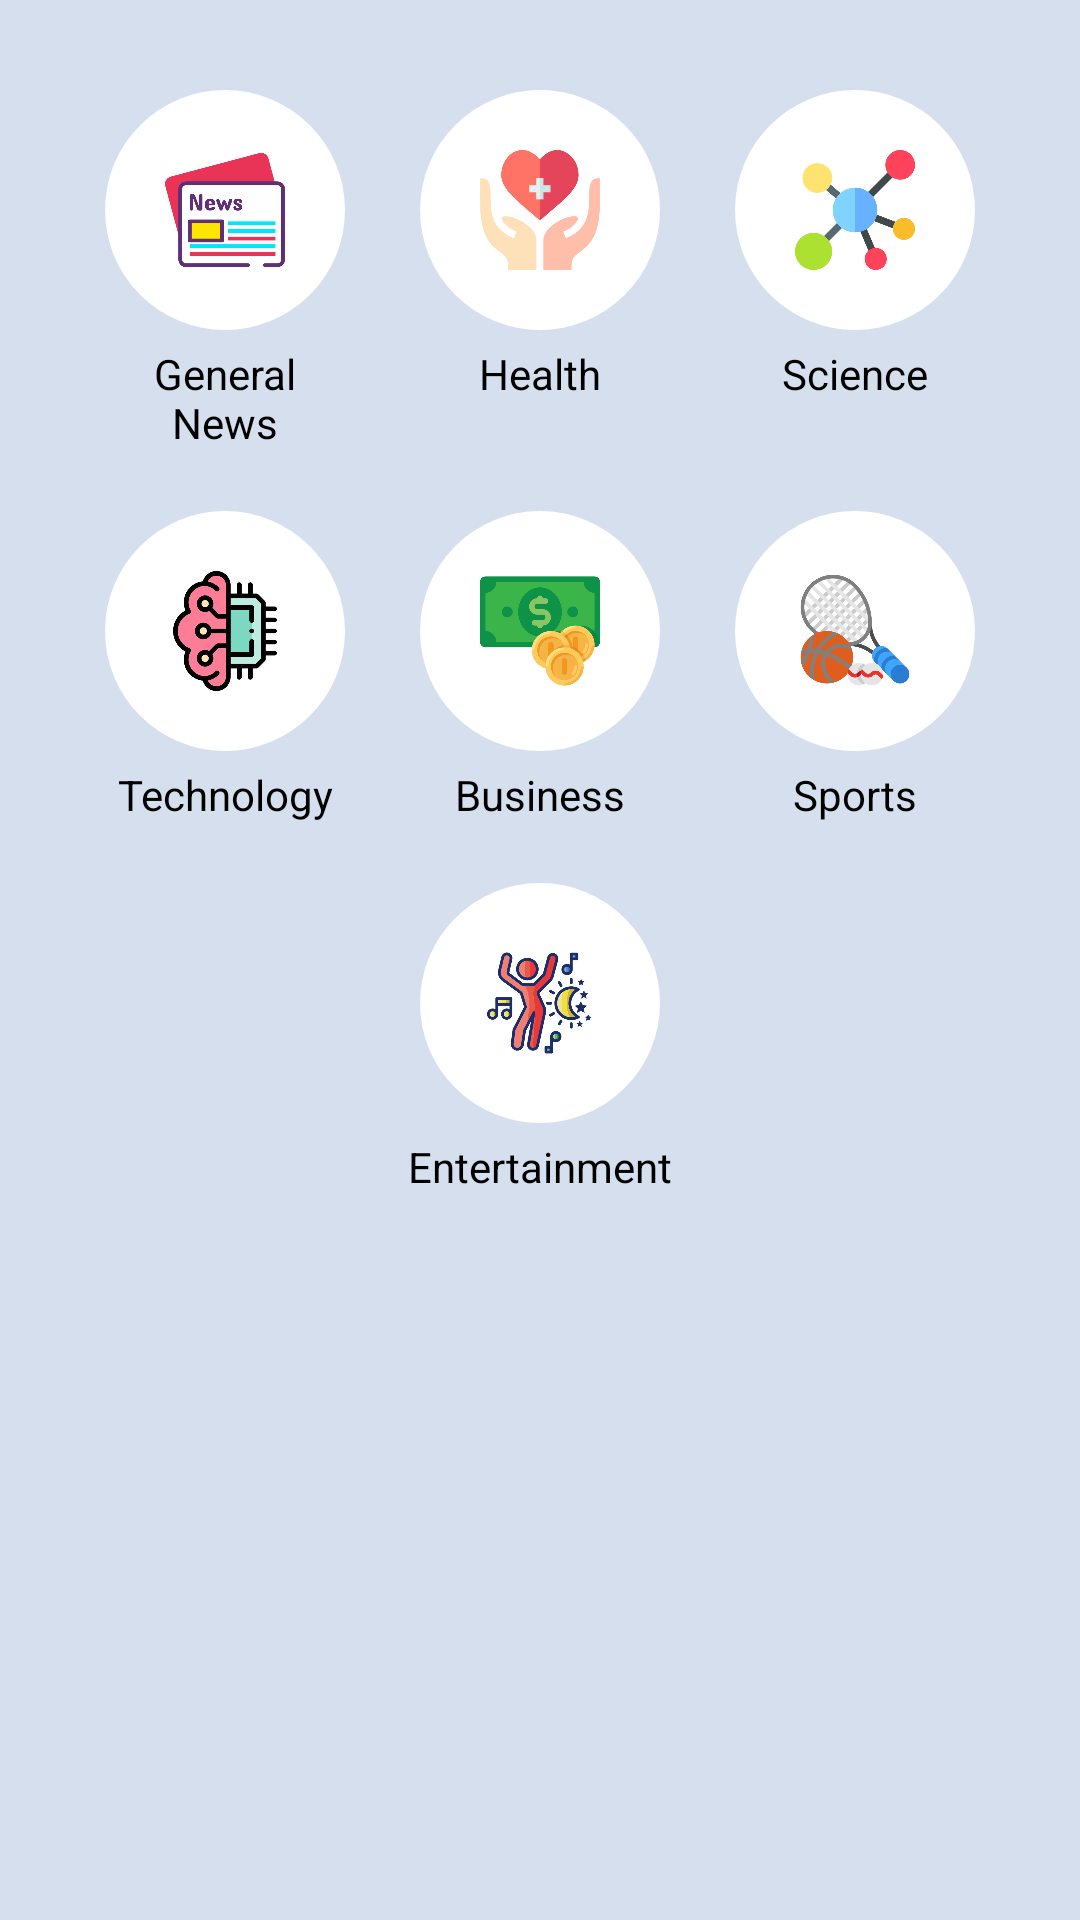

Locate icon controls on the screen. Image size 1080px x 1920px, boxes as (x1=x1, y1=y1, x2=x2, y2=y2).
brain: (x1=105, y1=511, x2=345, y2=751)
dance: (x1=420, y1=883, x2=660, y2=1123)
molecule: (x1=735, y1=90, x2=975, y2=330)
money: (x1=420, y1=511, x2=660, y2=751)
